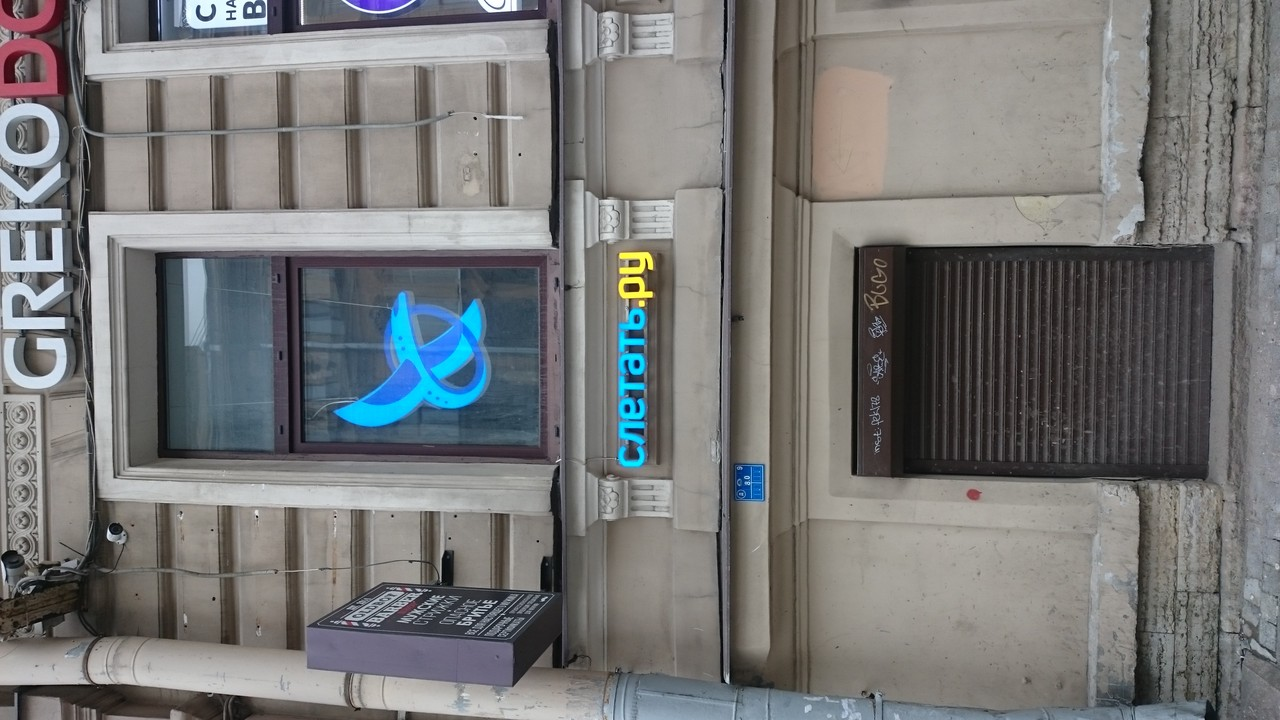cantilever: (302, 547, 562, 689)
signboard: (1, 1, 78, 392), (618, 252, 654, 469)
window: (857, 246, 1212, 480), (164, 257, 550, 457)
